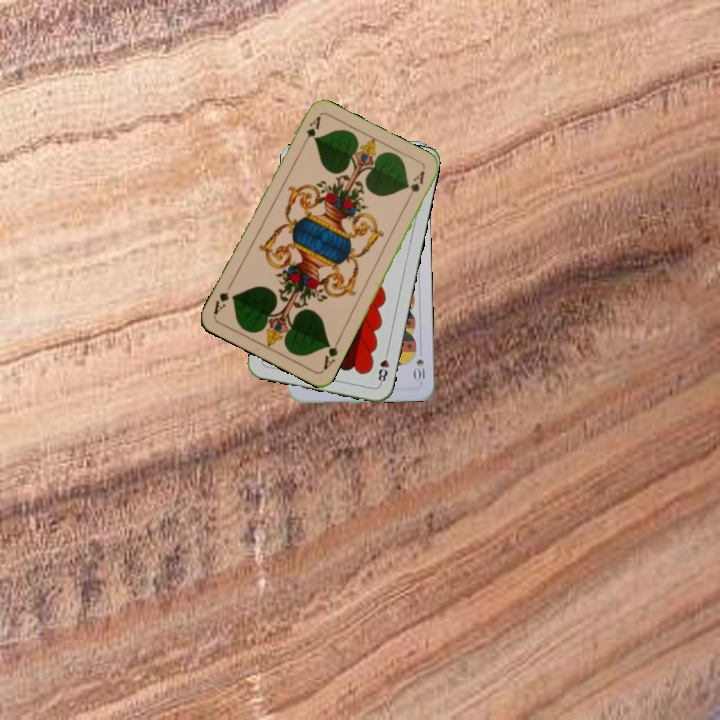GA: (298, 112, 323, 150), (319, 334, 342, 372)
H8: (374, 347, 392, 387)
S10: (411, 355, 428, 383)
